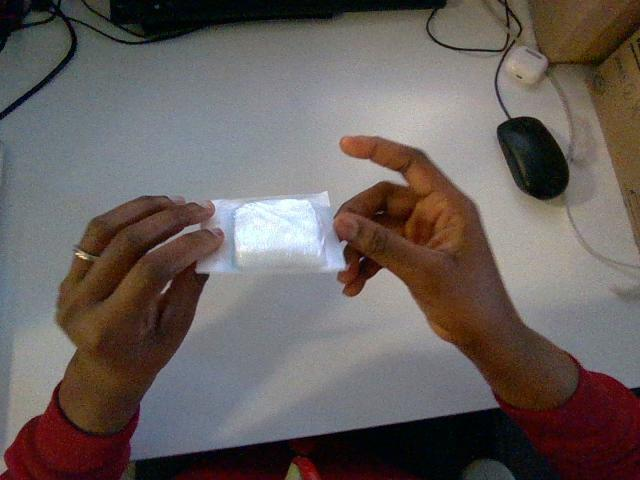gauze: (197, 192, 345, 272)
